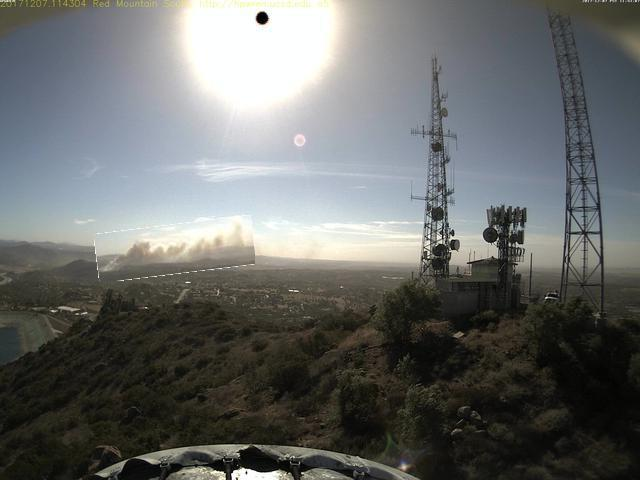smoke: (96, 221, 256, 279)
